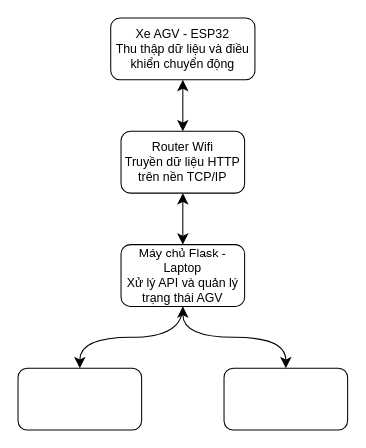
Some shapes in this 366 by 448 pixel diagram are drawn without their labels. The shapes that lost their labels are listed below. From the top down, each one's centre as x and y in pixels, then its label:
point 79,398: SQLite Lưu lịch sử và dữ liệu vào kho
point 285,398: Website Giám sát và quản lý
